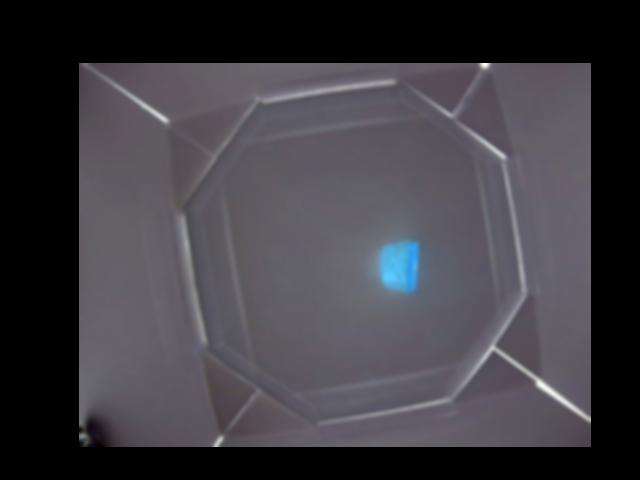Carrot: (380, 241, 420, 292)
